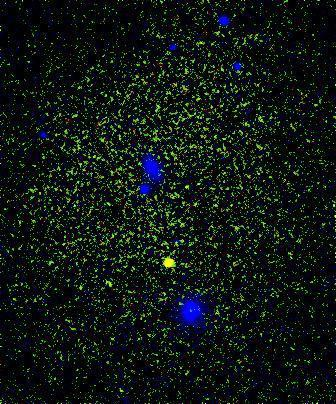star: (154, 247, 184, 277)
